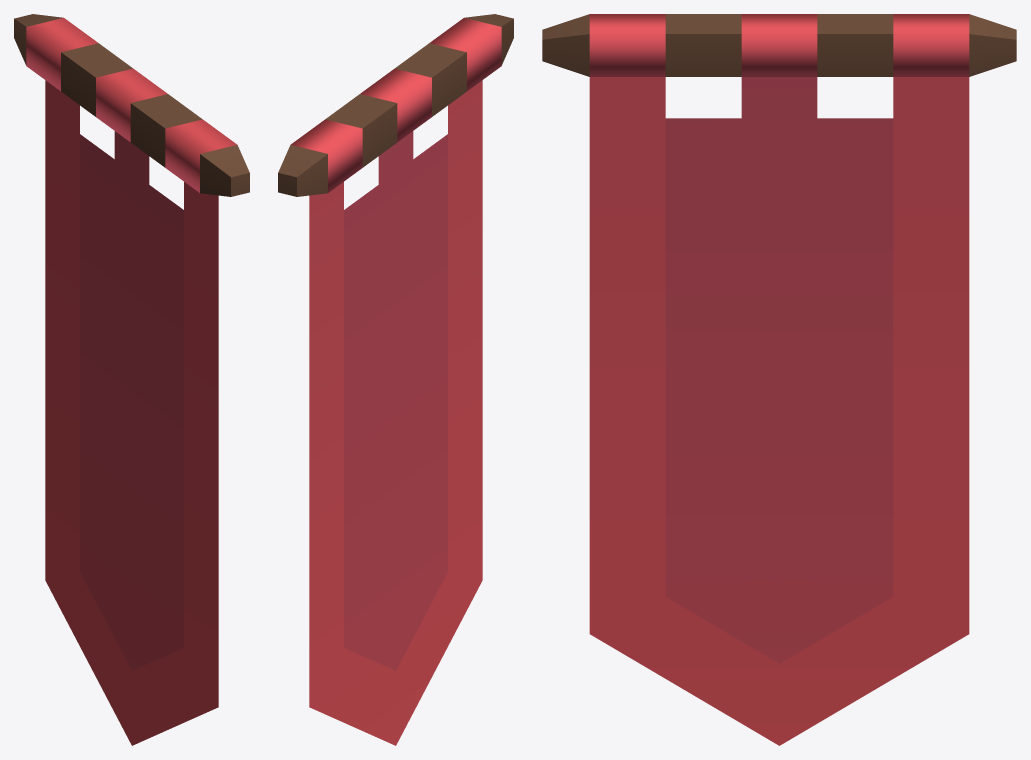
Rendered from banner-red.glb.
The picture shows the model from 3 angles, left to right: view 1: azimuth 30°, elevation 25°; view 2: azimuth 150°, elevation 25°; view 3: azimuth 270°, elevation 25°; orthographic projection. The views are drawn at different scales.
Parts seen in each view (by area): view 1: banner-red; view 2: banner-red; view 3: banner-red.
Boxes of the visible parts, x1=… form: banner-red: x1=14, y1=14, x2=249, y2=745; banner-red: x1=278, y1=14, x2=513, y2=745; banner-red: x1=542, y1=14, x2=1016, y2=745.
Size of the model in its own units: 0.05 by 0.8394 by 0.5.
1 material, 1 textured.
